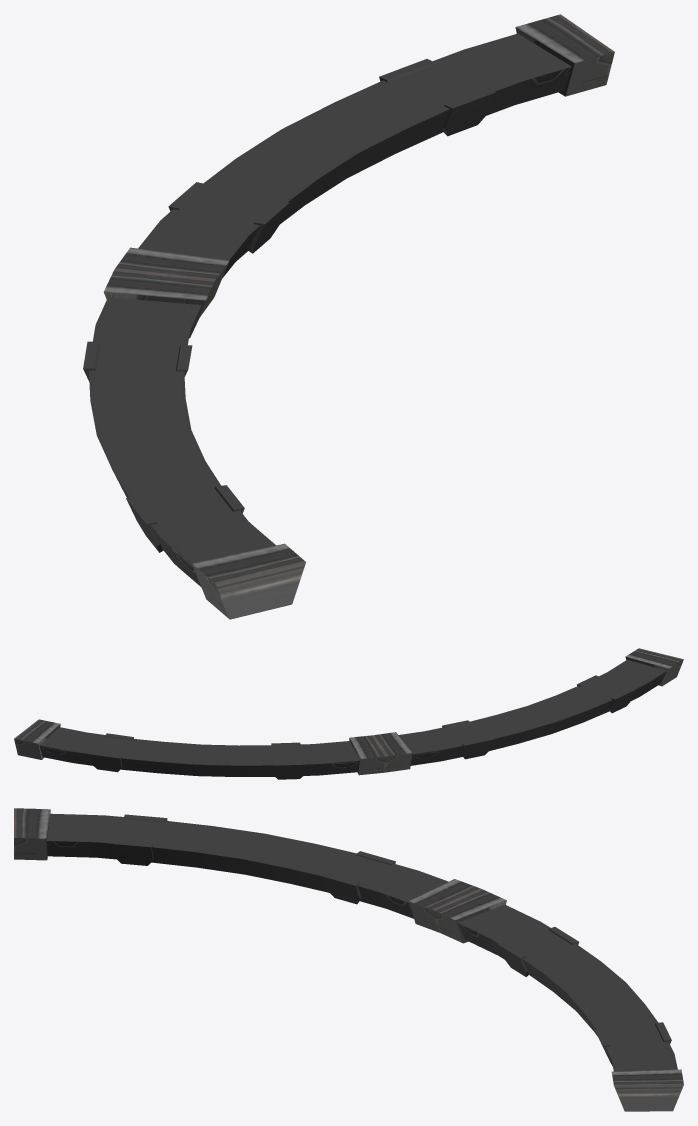
Rendered from sf_light_corner.glb.
3 renders of one model, top to bottom at view 1: azimuth 30°, elevation 25°; view 2: azimuth 150°, elevation 25°; view 3: azimuth 270°, elevation 25°, orthographic. The views are drawn at different scales.
Visible parts, largest first — view 1: Prop_Light_Corner; view 2: Prop_Light_Corner; view 3: Prop_Light_Corner.
Boxes of the visible parts, left/top/right/bottom form: Prop_Light_Corner: left=83, top=14, right=614, bottom=619; Prop_Light_Corner: left=14, top=648, right=683, bottom=779; Prop_Light_Corner: left=14, top=808, right=683, bottom=1111.
Size of the model in its own units: 4.12 by 0.1819 by 4.21.
Materials: 2 (1 with a texture image).
